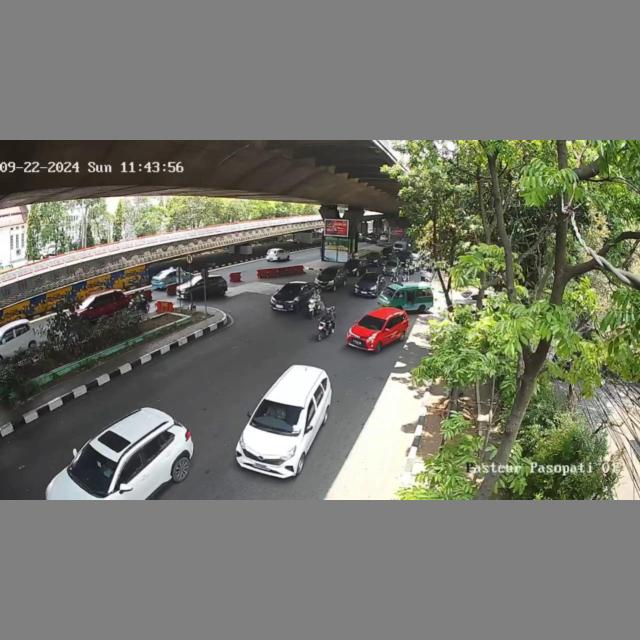windshield: (70, 444, 121, 493), (251, 397, 304, 436), (358, 313, 385, 332), (277, 285, 300, 295)
